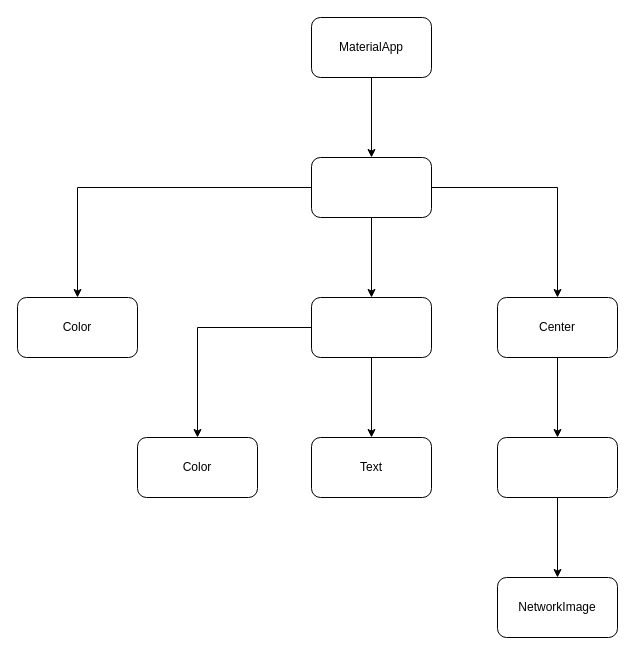
The diagram is 635 pixels wide and 655 high, and some of its shapes have lost their labels. Here are the shapes that lost their labels. From the top down, the centre of each, then its label:
At (x=371, y=187): "Scaffold".
At (x=371, y=327): "AppBar".
At (x=557, y=467): "Image".
